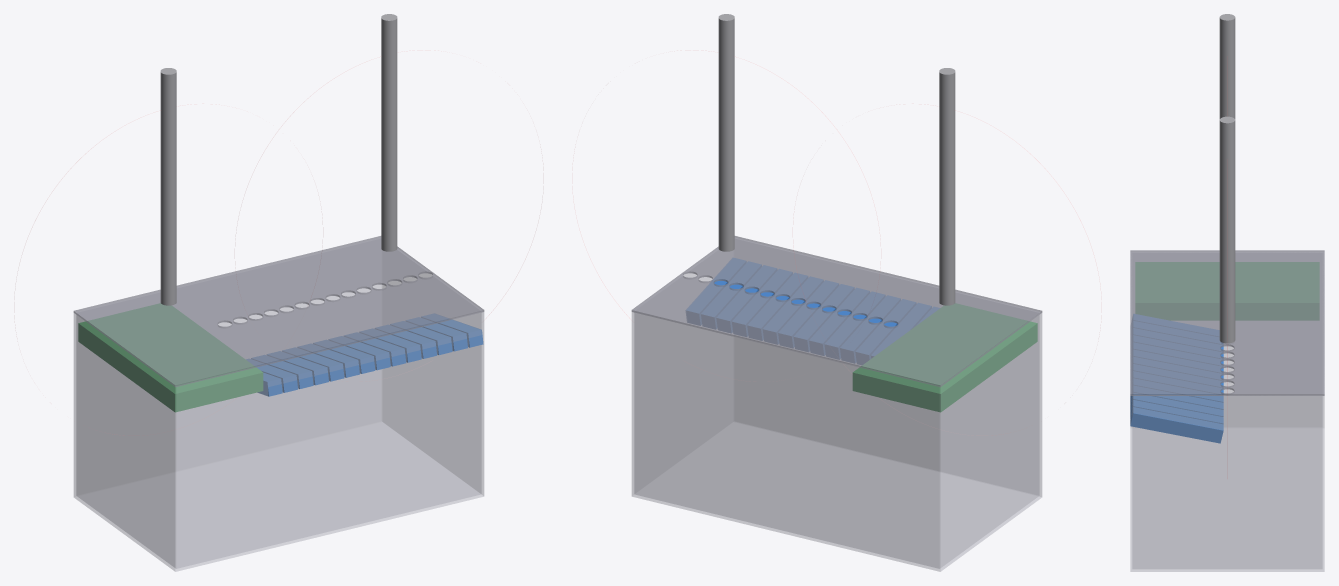
3 views of the same model, side by side, from view 1: azimuth 30°, elevation 25°; view 2: azimuth 150°, elevation 25°; view 3: azimuth 270°, elevation 25° (orthographic). The views are drawn at different scales.
Visible parts, largest first — view 1: tank, lid_pick_holes, seedling_tray, pod_rows, track_pipes_A_B; view 2: tank, lid_pick_holes, pod_rows, seedling_tray, track_pipes_A_B; view 3: tank, lid_pick_holes, pod_rows, seedling_tray, track_pipes_A_B.
Part boxes in pixels (x1,y1,x2,y2): tank: (73, 238, 484, 571); lid_pick_holes: (73, 236, 484, 387); seedling_tray: (78, 303, 263, 412); pod_rows: (246, 314, 483, 396); track_pipes_A_B: (160, 14, 397, 305); tank: (631, 238, 1042, 571); lid_pick_holes: (631, 236, 1042, 387); pod_rows: (686, 258, 939, 364); seedling_tray: (852, 303, 1037, 412); track_pipes_A_B: (718, 14, 955, 305); tank: (1130, 252, 1324, 571); lid_pick_holes: (1130, 250, 1324, 395); pod_rows: (1130, 314, 1223, 443); seedling_tray: (1135, 262, 1319, 320); track_pipes_A_B: (1219, 14, 1235, 343).
Size of the model in its own units: 1200 by 980 by 400.
